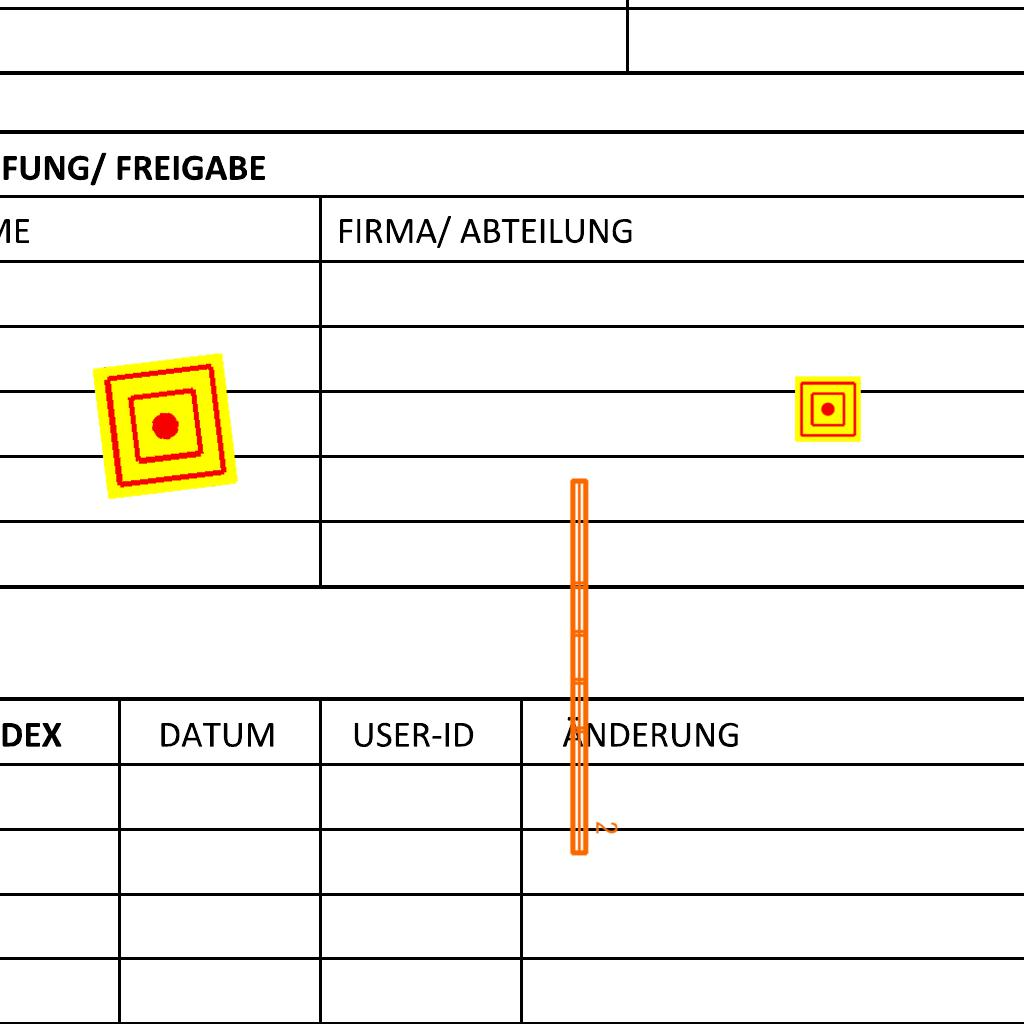Ambulanz_Pendelleuchte_LED: (564, 473, 620, 860)
NAM-Nichtautomatischer_Melder: (91, 352, 239, 500), (795, 376, 861, 442)
